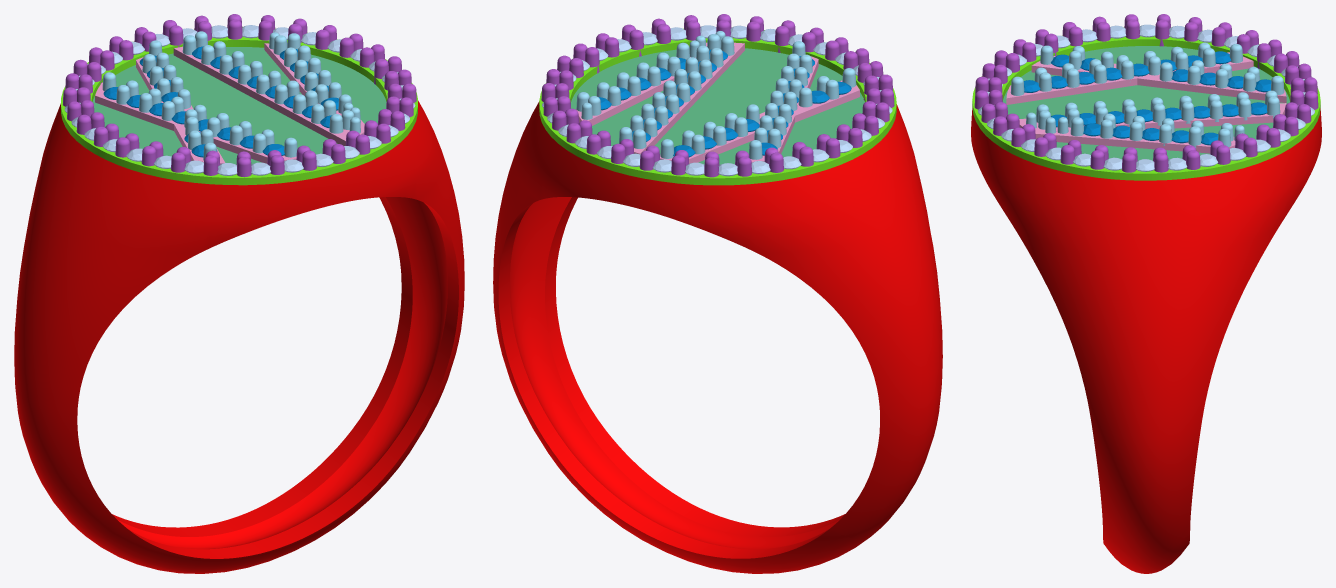
3 views of the same model, side by side, from view 1: azimuth 30°, elevation 25°; view 2: azimuth 150°, elevation 25°; view 3: azimuth 270°, elevation 25° (orthographic). The views are drawn at different scales.
Parts seen in each view (by area): view 1: xv teste render.3dm; view 2: xv teste render.3dm; view 3: xv teste render.3dm.
Boxes of the visible parts, <box> form: xv teste render.3dm: <box>14,27,464,573</box>; xv teste render.3dm: <box>493,28,942,573</box>; xv teste render.3dm: <box>971,30,1321,573</box>.
Size of the model in its own units: 2.47 by 2.6 by 1.77.
